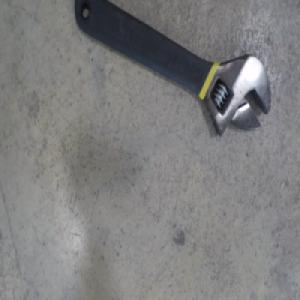AdjustableWrench: (75, 0, 273, 135)
